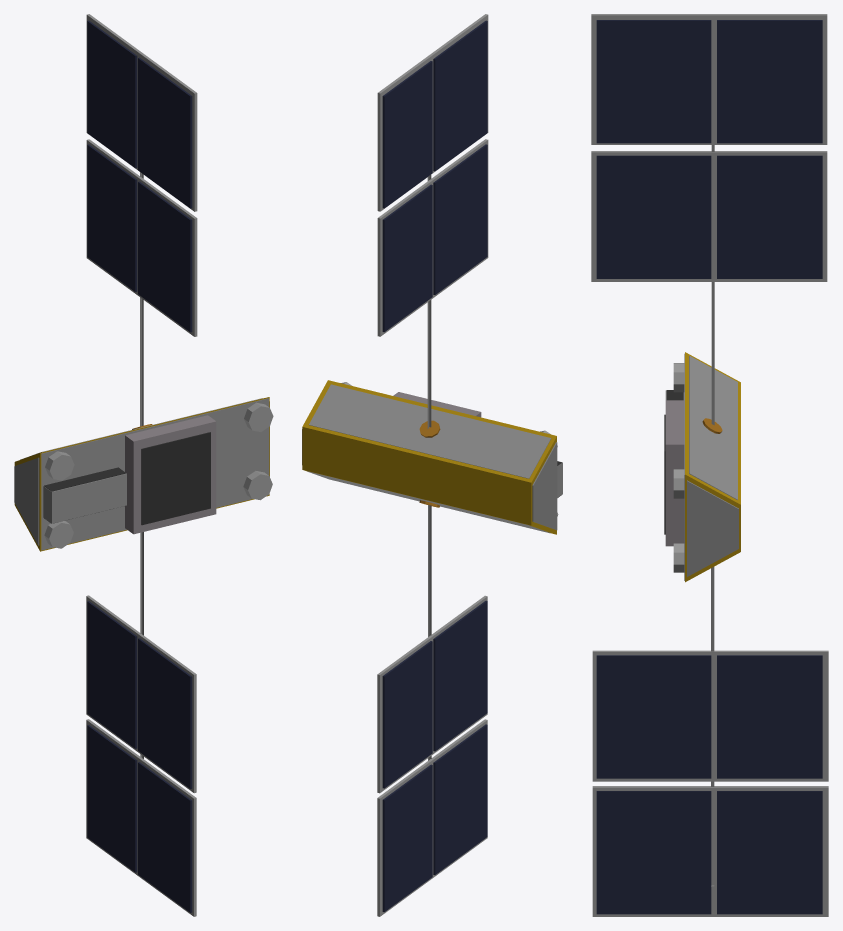
The model's file is iridium_next_med.gltf.
3 renders of one model, left to right at view 1: azimuth 30°, elevation 25°; view 2: azimuth 150°, elevation 25°; view 3: azimuth 270°, elevation 25°, orthographic. The views are drawn at different scales.
Visible parts, largest first — view 1: Cube.011, Cube.003, Cube.008, Cube.014, Cube.005, Cube.004, Cube.007, Cube.012, Cube.050, Cube.006, Cube.001, Cube.002 (+11 smaller); view 2: Cube, Cube.016, Cube.003, Cube.005, Cube.008, Cube.014, Cube.050, Cube.004, Cube.007, Cube.012, Cube.020, Cube.022 (+5 smaller); view 3: Cube.005, Cube.003, Cube.008, Cube.014, Cube.050, Cube.004, Cube.007, Cube.012, Cube.016, Cube.038, Cube.022, Cube.020 (+5 smaller).
Part boxes in pixels (x1=…): Cube.011: x1=41, y1=398, x2=268, y2=550; Cube.003: x1=138, y1=762, x2=192, y2=912; Cube.008: x1=138, y1=181, x2=192, y2=332; Cube.014: x1=138, y1=57, x2=192, y2=208; Cube.005: x1=138, y1=638, x2=192, y2=788; Cube.004: x1=87, y1=601, x2=137, y2=748; Cube.007: x1=87, y1=144, x2=137, y2=291; Cube.012: x1=87, y1=20, x2=137, y2=168; Cube.050: x1=87, y1=725, x2=137, y2=872; Cube.006: x1=141, y1=432, x2=210, y2=525; Cube.001: x1=125, y1=415, x2=216, y2=534; Cube.002: x1=43, y1=473, x2=126, y2=523; Cube: x1=302, y1=380, x2=556, y2=534; Cube.016: x1=309, y1=384, x2=551, y2=478; Cube.003: x1=433, y1=724, x2=487, y2=874; Cube.005: x1=433, y1=600, x2=487, y2=751; Cube.008: x1=433, y1=144, x2=487, y2=294; Cube.014: x1=433, y1=20, x2=487, y2=171; Cube.050: x1=382, y1=764, x2=432, y2=912; Cube.004: x1=382, y1=641, x2=432, y2=788; Cube.007: x1=382, y1=184, x2=432, y2=332; Cube.012: x1=382, y1=61, x2=432, y2=208; Cube.020: x1=377, y1=139, x2=488, y2=336; Cube.022: x1=377, y1=14, x2=488, y2=211; Cube.005: x1=596, y1=655, x2=711, y2=778; Cube.003: x1=596, y1=791, x2=711, y2=914; Cube.008: x1=596, y1=155, x2=711, y2=278; Cube.014: x1=596, y1=20, x2=711, y2=143; Cube.050: x1=717, y1=791, x2=822, y2=914; Cube.004: x1=717, y1=655, x2=822, y2=778; Cube.007: x1=717, y1=155, x2=822, y2=278; Cube.012: x1=717, y1=20, x2=822, y2=143; Cube.016: x1=689, y1=355, x2=737, y2=499; Cube.038: x1=592, y1=650, x2=828, y2=781; Cube.022: x1=591, y1=14, x2=827, y2=144; Cube.020: x1=591, y1=151, x2=827, y2=281.
Bounding box in the file's own units: 5.59 × 19.01 × 4.53.
